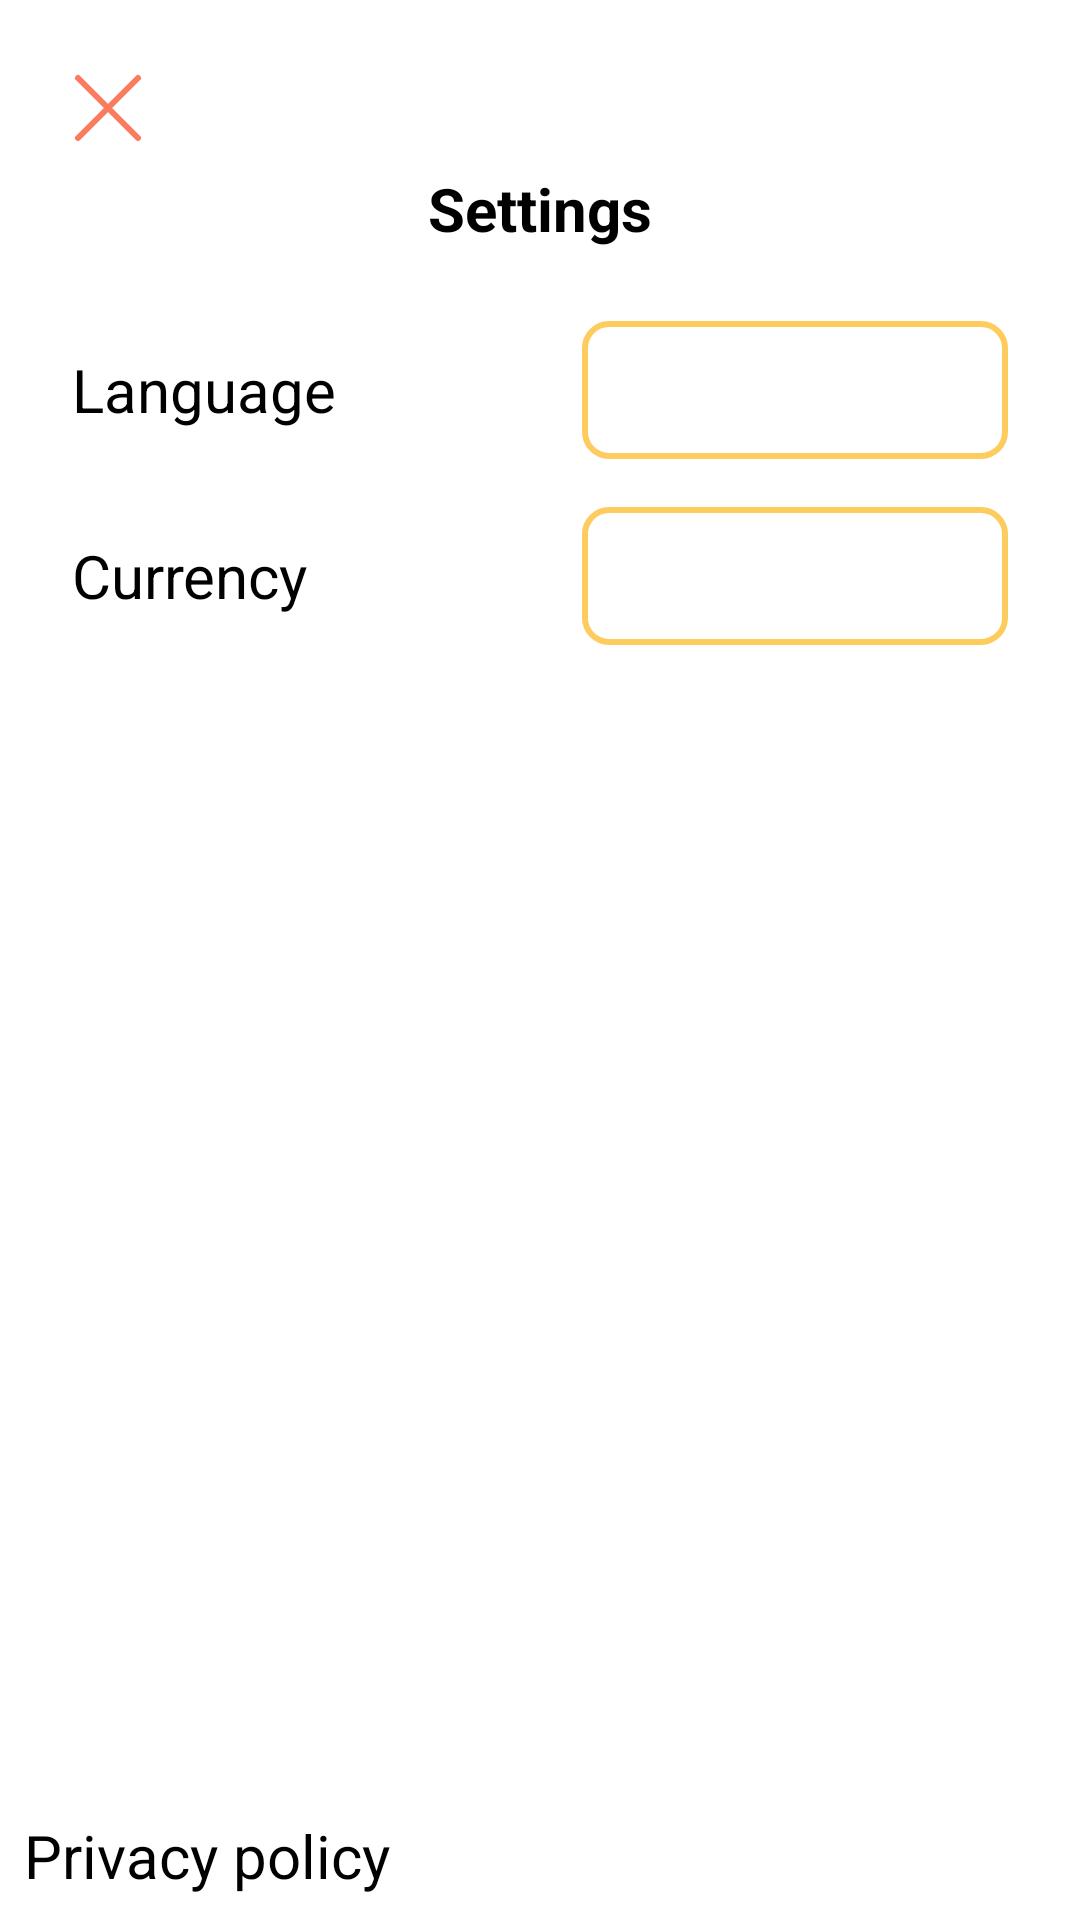

Where icons sit on this 1080 x 1920 app screen, as bbox(x1, y1, x2, y2):
close: bbox(75, 75, 141, 141)
